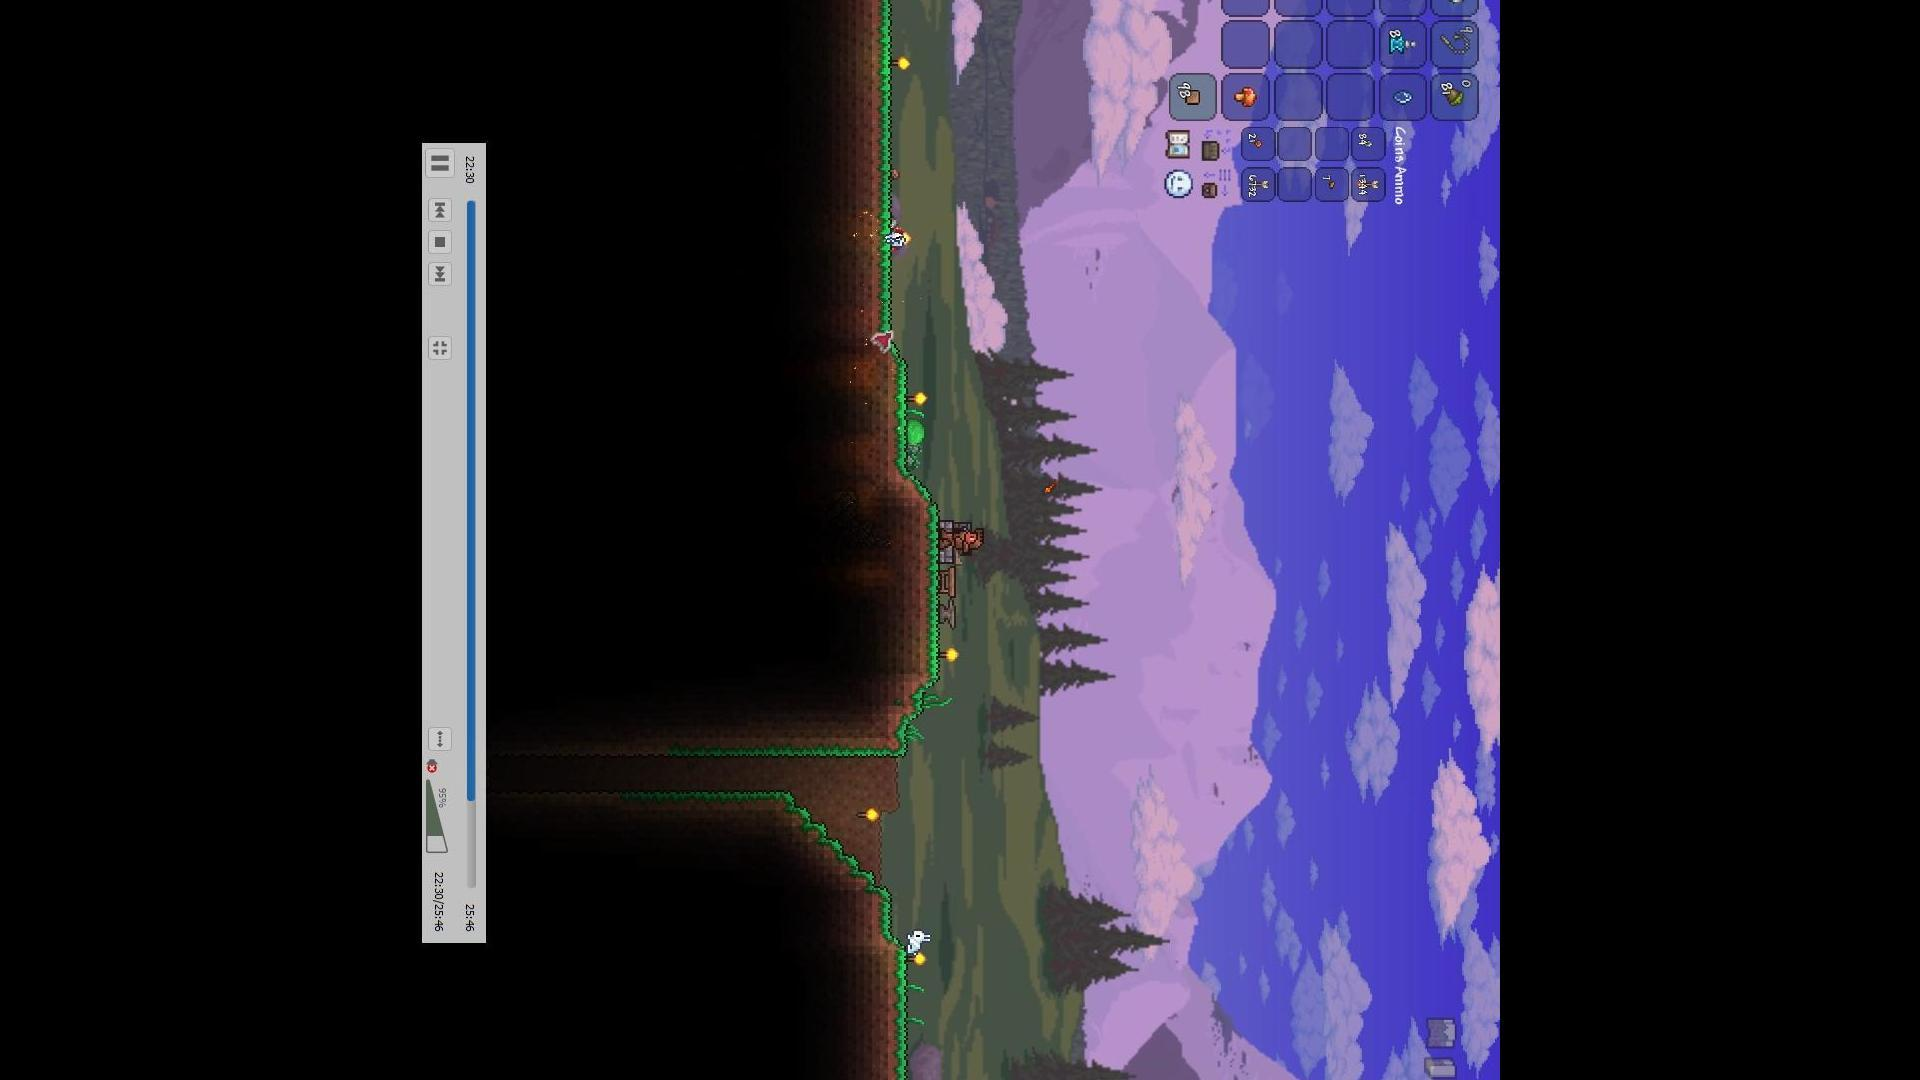anvil: (931, 601, 959, 629)
recallP: (1385, 33, 1418, 55)
slime: (901, 417, 926, 452)
